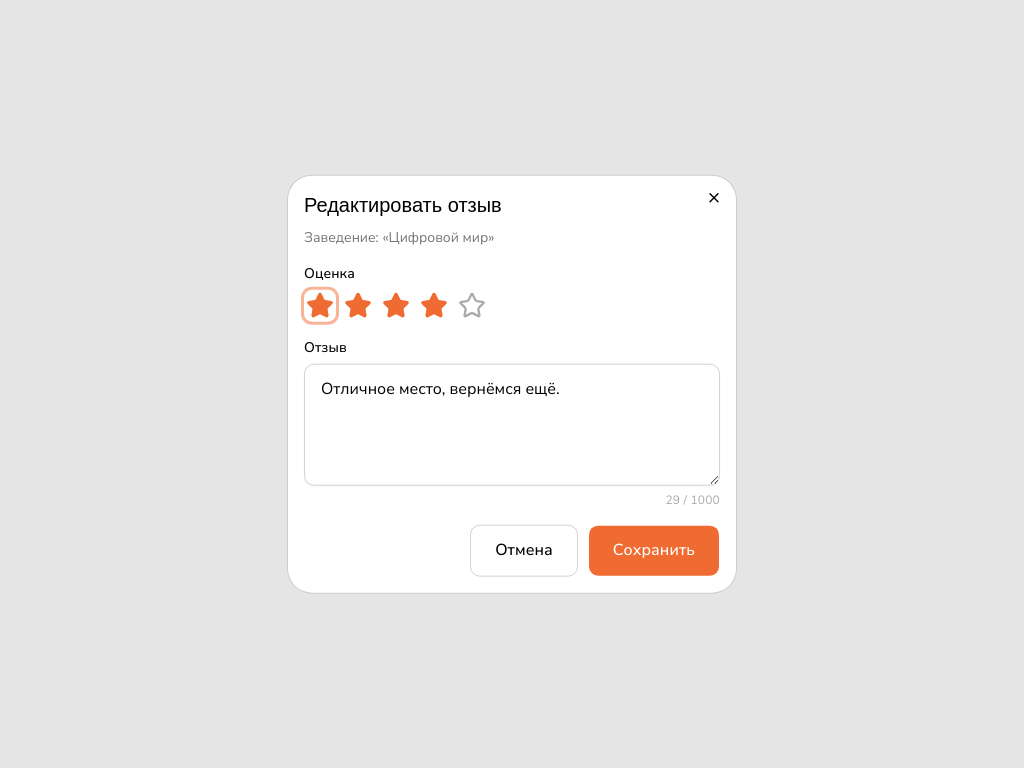
Scenario: edit mode (editTarget) › keeps the client guard in edit mode: clearing the content blocks submit
Clear the text box labelled "Отзыв": (512, 424) [304,363,720,485]
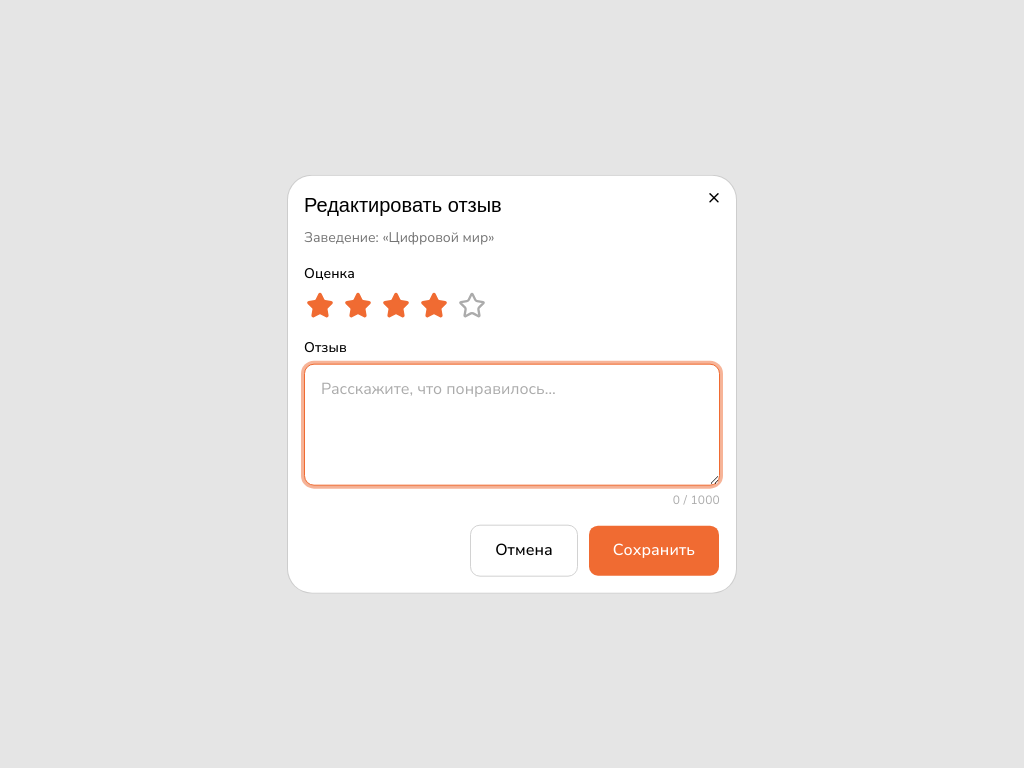
Click the button "Сохранить": (654, 550) [588,524,720,576]
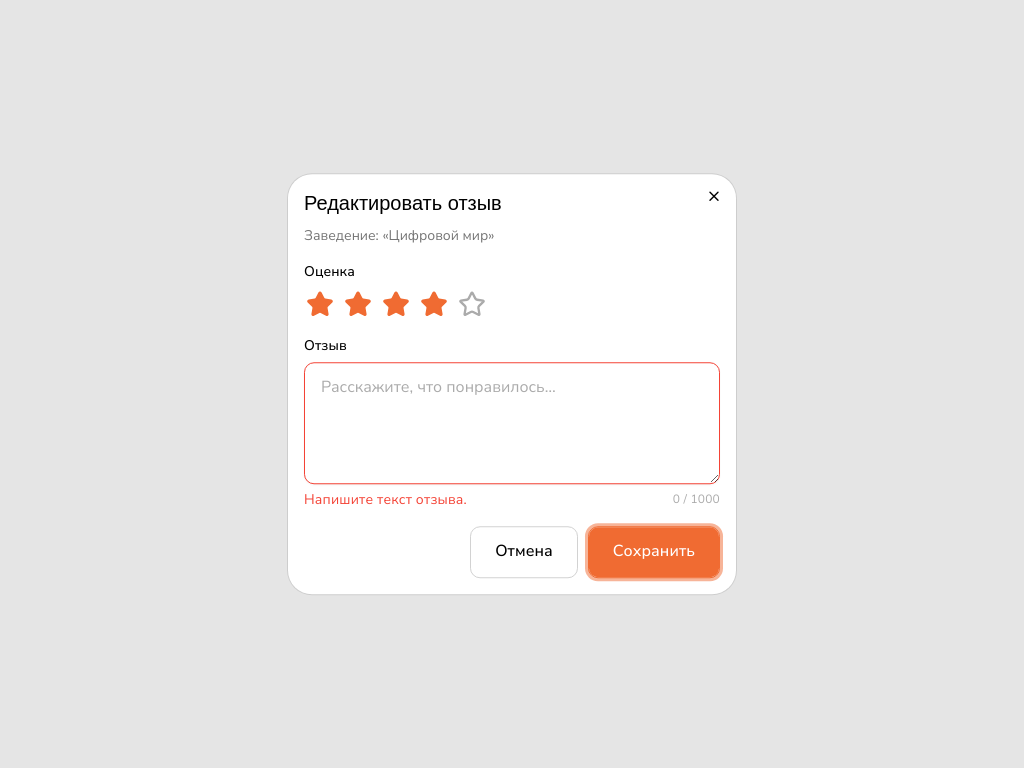
expect the text "Напишите текст отзыва." is shown: met, box [304,490,467,510]
